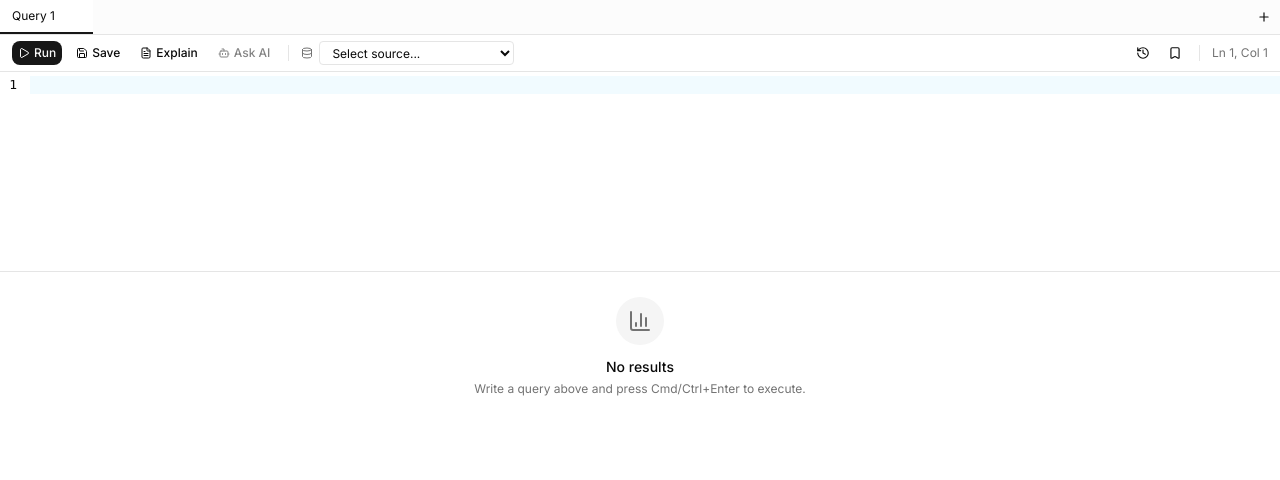
Test: SqlEditorPage › prevents execution of empty query
Step 1. Click the button with test id "run-query-button" → (37, 53), box [12, 41, 62, 65]
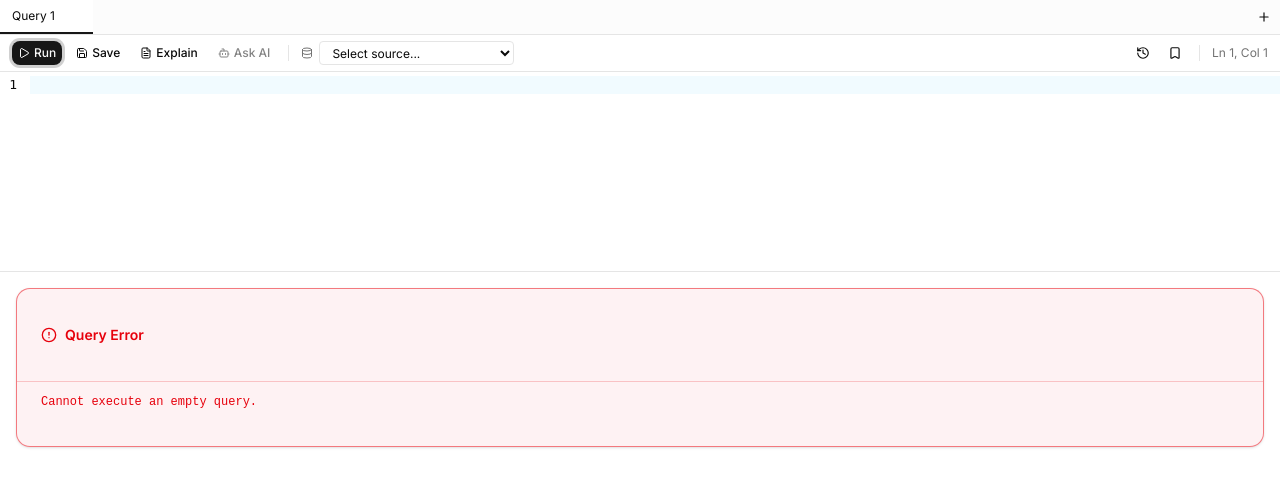
Check: the element with test id "sql-results-error" is shown, box [0, 272, 1279, 463]
